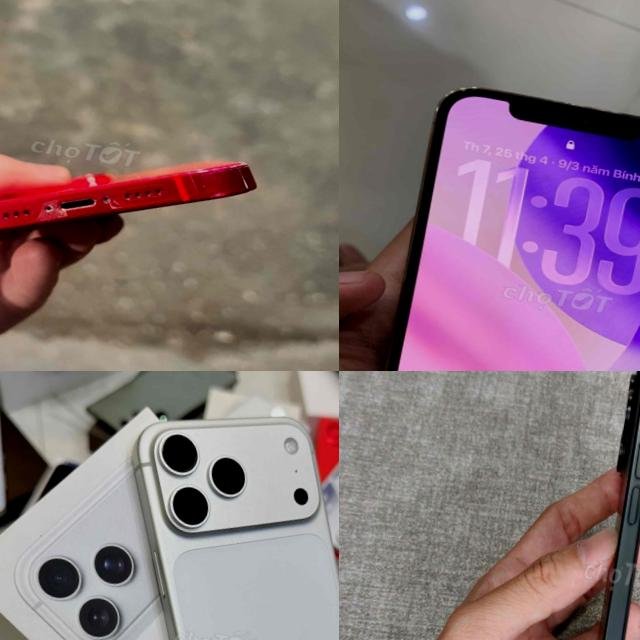gen_12_13: (351, 76, 640, 371)
gen_14: (0, 100, 275, 295)
gen_15: (538, 371, 640, 640)
